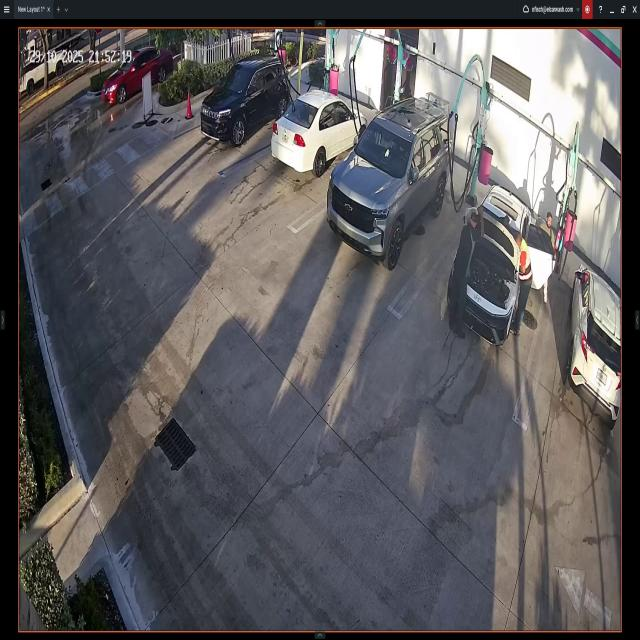Car: (331, 95, 451, 266), (453, 186, 552, 336), (566, 262, 622, 421), (200, 55, 290, 148), (273, 89, 367, 174), (101, 49, 174, 106)
